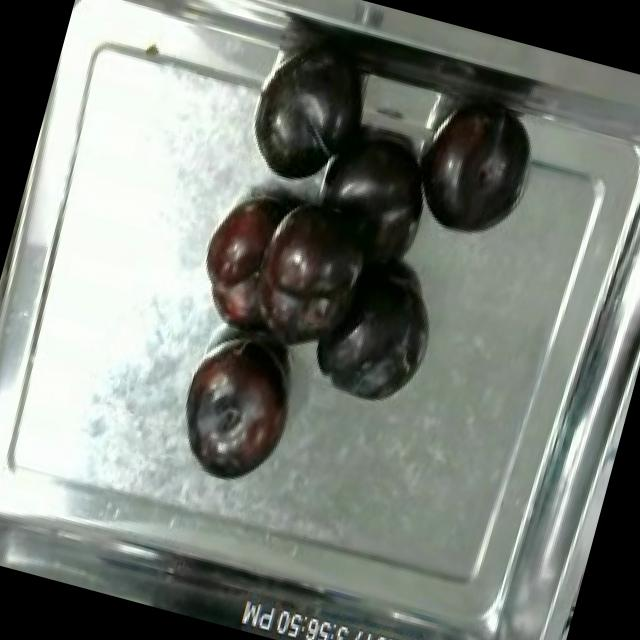Fruit: (166, 320, 312, 497), (302, 250, 450, 422), (229, 35, 380, 203), (399, 88, 548, 255), (248, 185, 370, 318), (189, 178, 293, 317)
